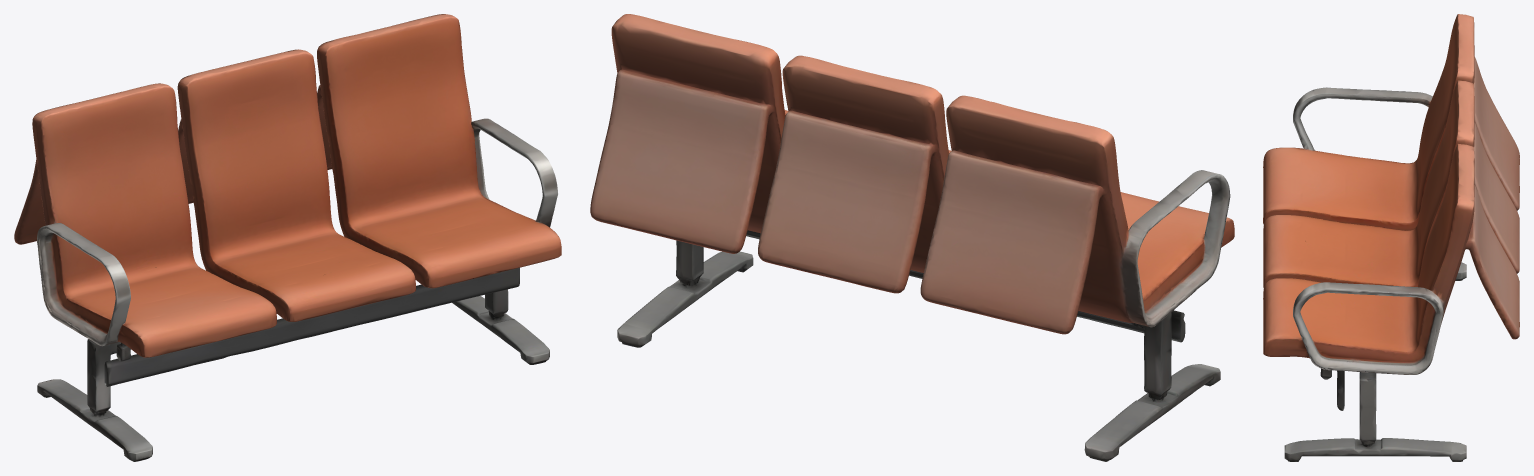
Rendered from chair.glb.
The picture shows the model from 3 angles, left to right: view 1: azimuth 30°, elevation 25°; view 2: azimuth 150°, elevation 25°; view 3: azimuth 270°, elevation 25°; orthographic projection. The views are drawn at different scales.
Visible parts, largest first — view 1: tripo_node_6e2aaa15-a703-4d62-b6e7-ab55a81bd62f; view 2: tripo_node_6e2aaa15-a703-4d62-b6e7-ab55a81bd62f; view 3: tripo_node_6e2aaa15-a703-4d62-b6e7-ab55a81bd62f.
Part boxes in pixels (box(x1,y1,x2,y2)): tripo_node_6e2aaa15-a703-4d62-b6e7-ab55a81bd62f: box(14, 14, 561, 461); tripo_node_6e2aaa15-a703-4d62-b6e7-ab55a81bd62f: box(590, 14, 1234, 461); tripo_node_6e2aaa15-a703-4d62-b6e7-ab55a81bd62f: box(1263, 14, 1519, 461).
Size of the model in its own units: 0.9998 by 0.6068 by 0.5386.
Materials: 1 (1 with a texture image).
